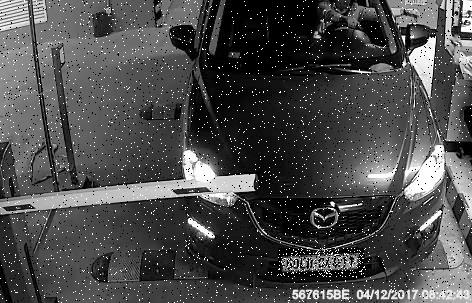License-plate: (280, 249, 367, 278)
